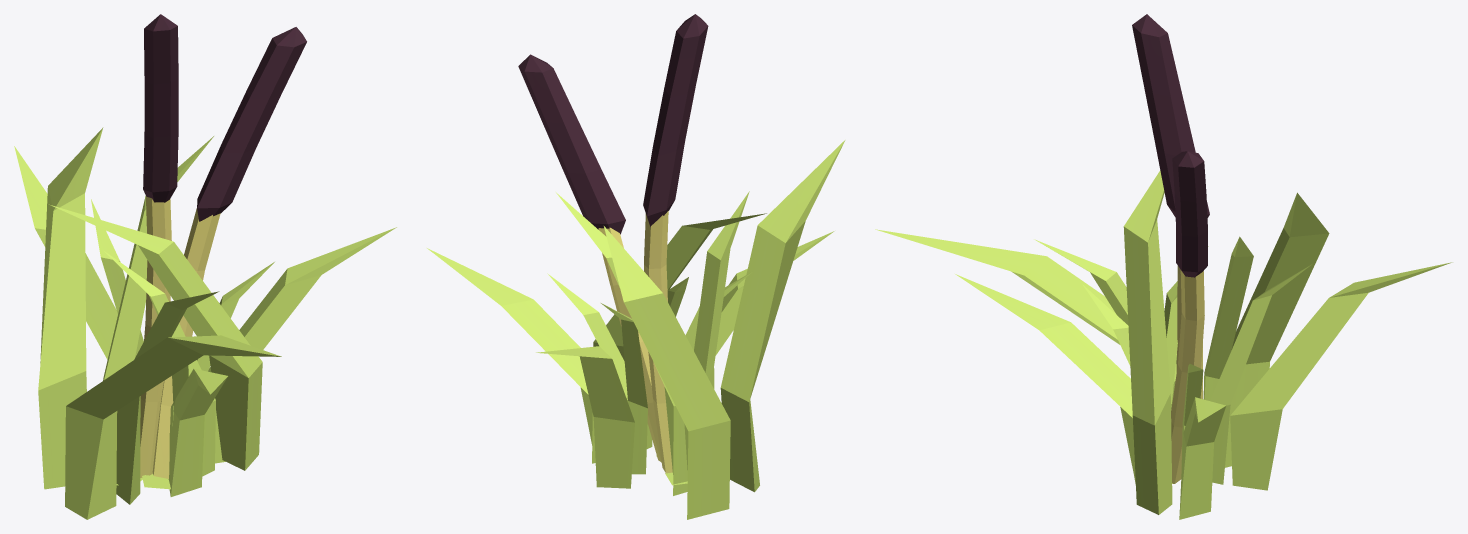
File: kamysh5.fbx
3 renders of one model, left to right at view 1: azimuth 30°, elevation 25°; view 2: azimuth 150°, elevation 25°; view 3: azimuth 270°, elevation 25°, orthographic. The views are drawn at different scales.
Visible parts, largest first — view 1: Cone; view 2: Cone; view 3: Cone.
Boxes of the visible parts, left/top/right/bottom form: Cone: left=14, top=14, right=396, bottom=519; Cone: left=427, top=14, right=845, bottom=519; Cone: left=875, top=14, right=1452, bottom=519.
Size of the model in its own units: 62.32 by 81.15 by 90.67.
